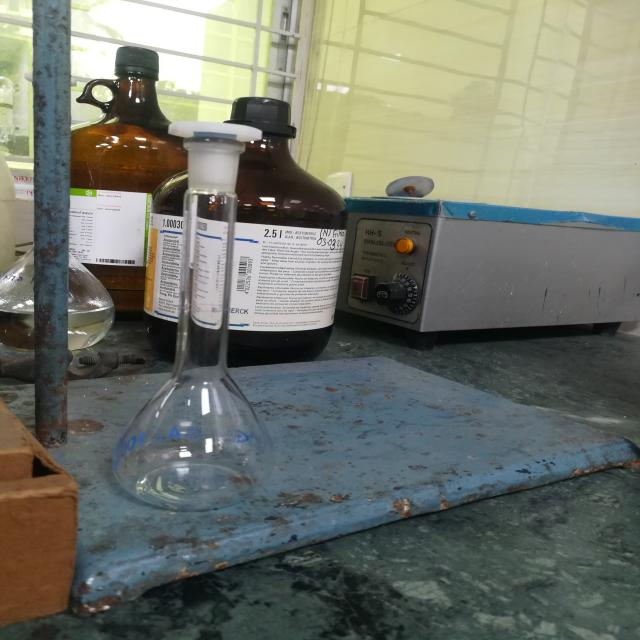Volumetric_Flask: (84, 108, 333, 520)
